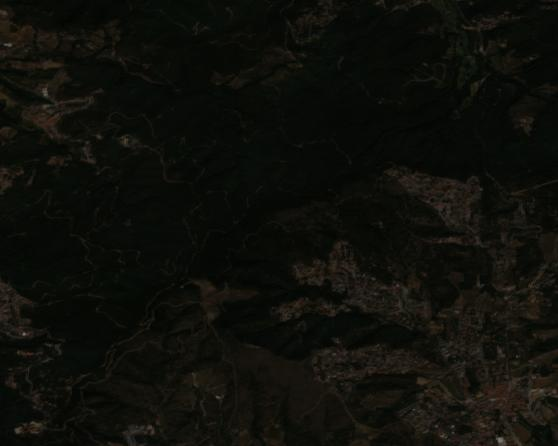Poblacion: (282, 162, 558, 446)
